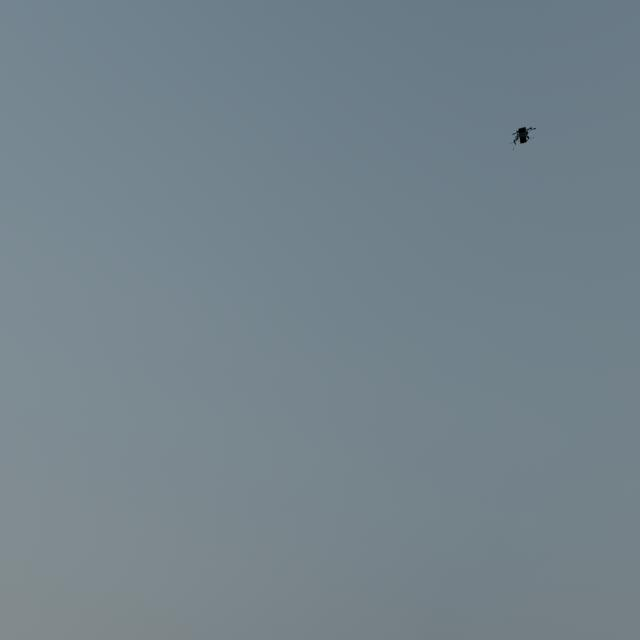drone: (510, 127, 536, 150)
